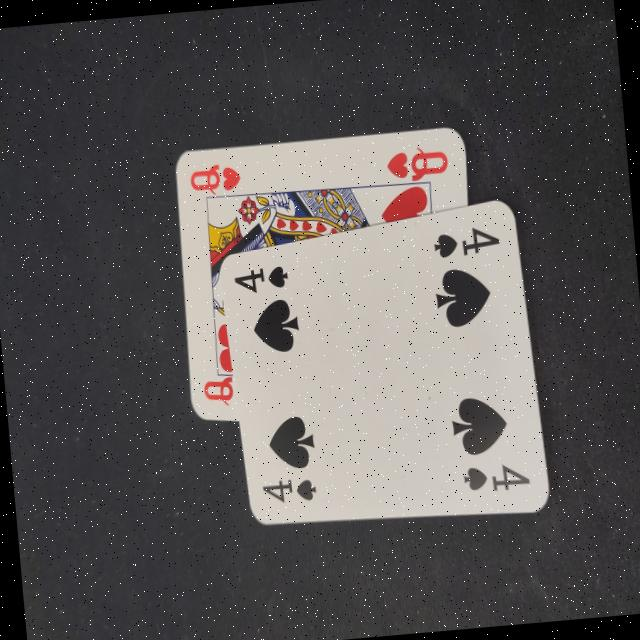4s: (450, 446, 543, 509), (422, 210, 514, 270), (229, 255, 302, 299), (253, 470, 332, 510)
Qh: (376, 123, 458, 200), (182, 158, 252, 198)
